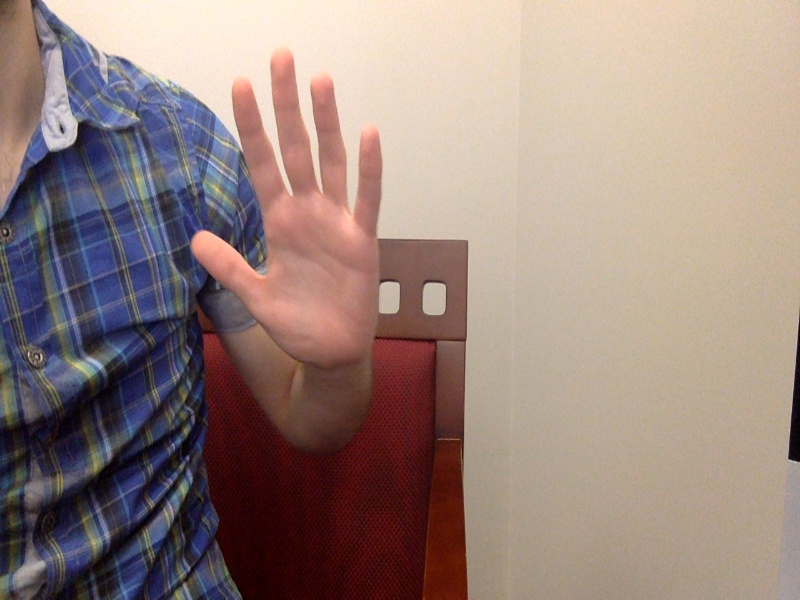5-hand: (188, 46, 386, 367)
